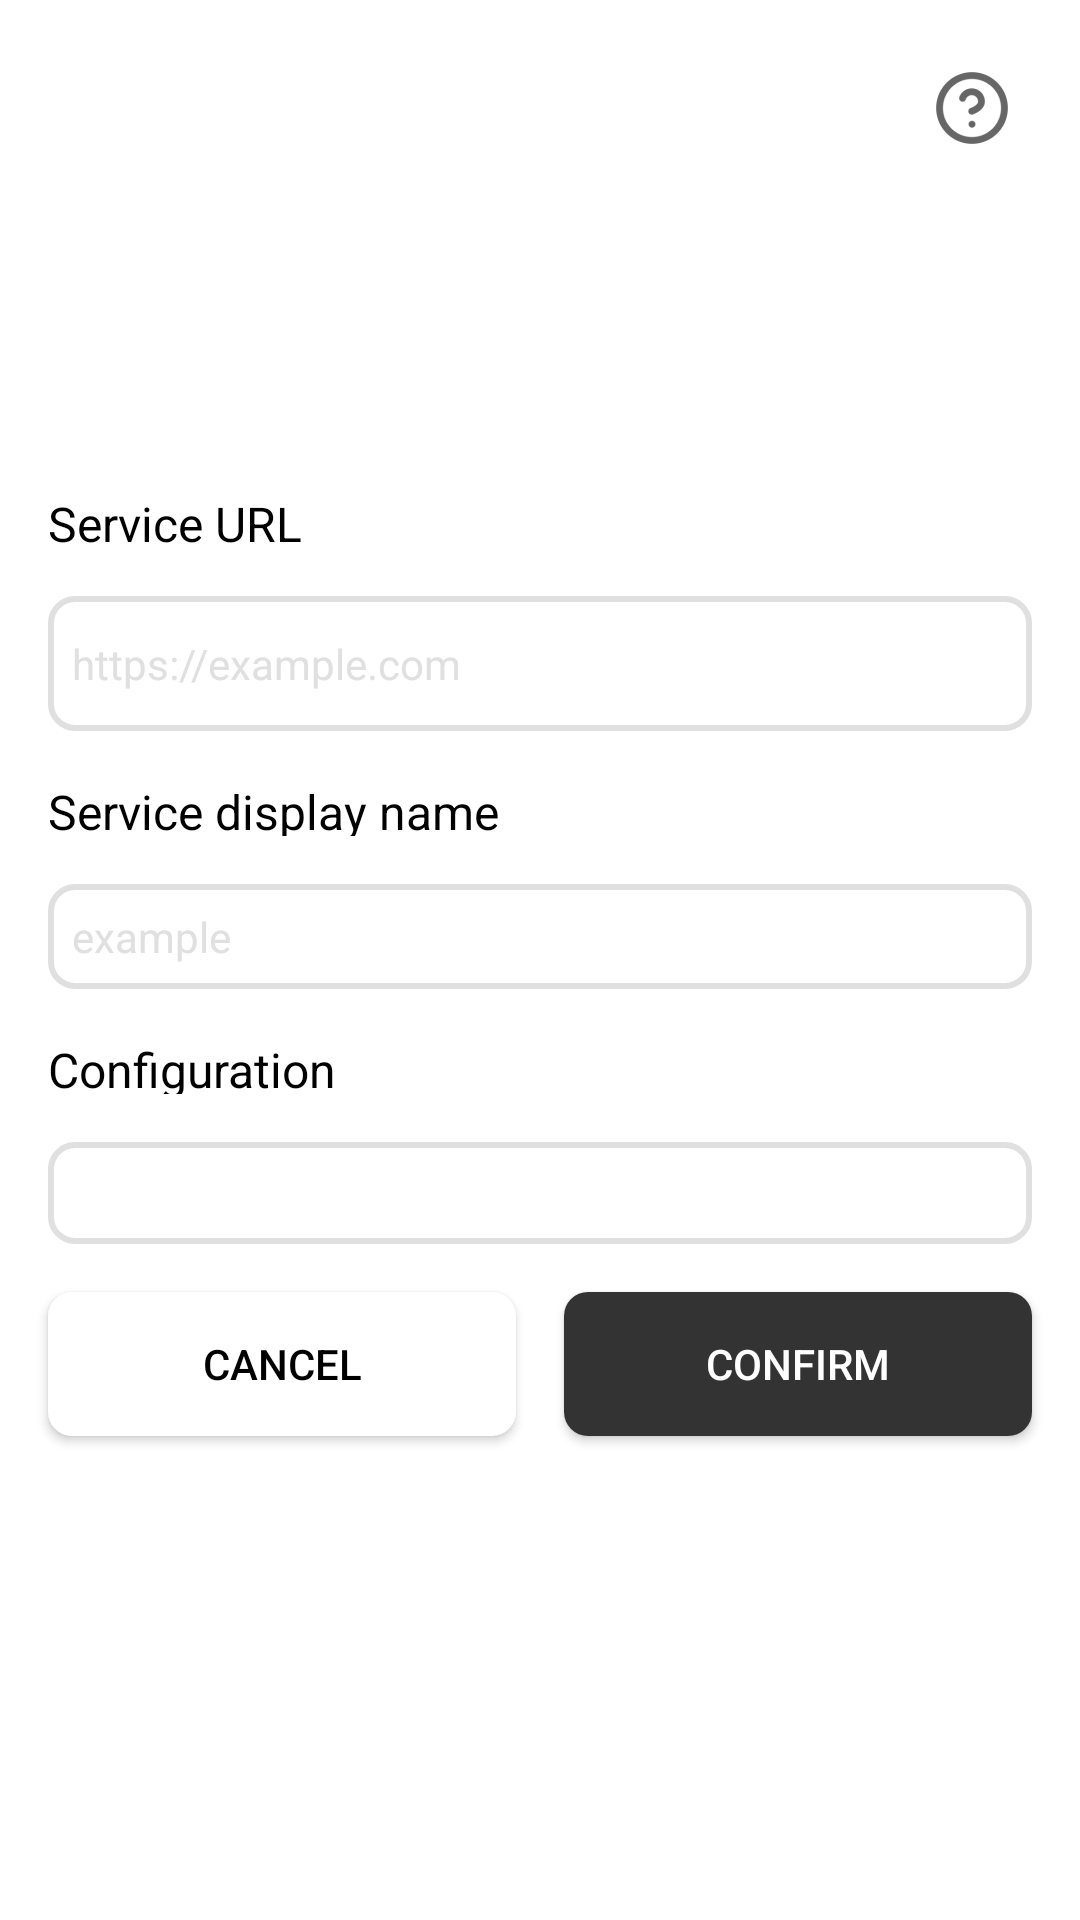

Where to tap for icons on this 1080px×1920px app screen, as (x=x, y=y):
help: (x=972, y=108)
